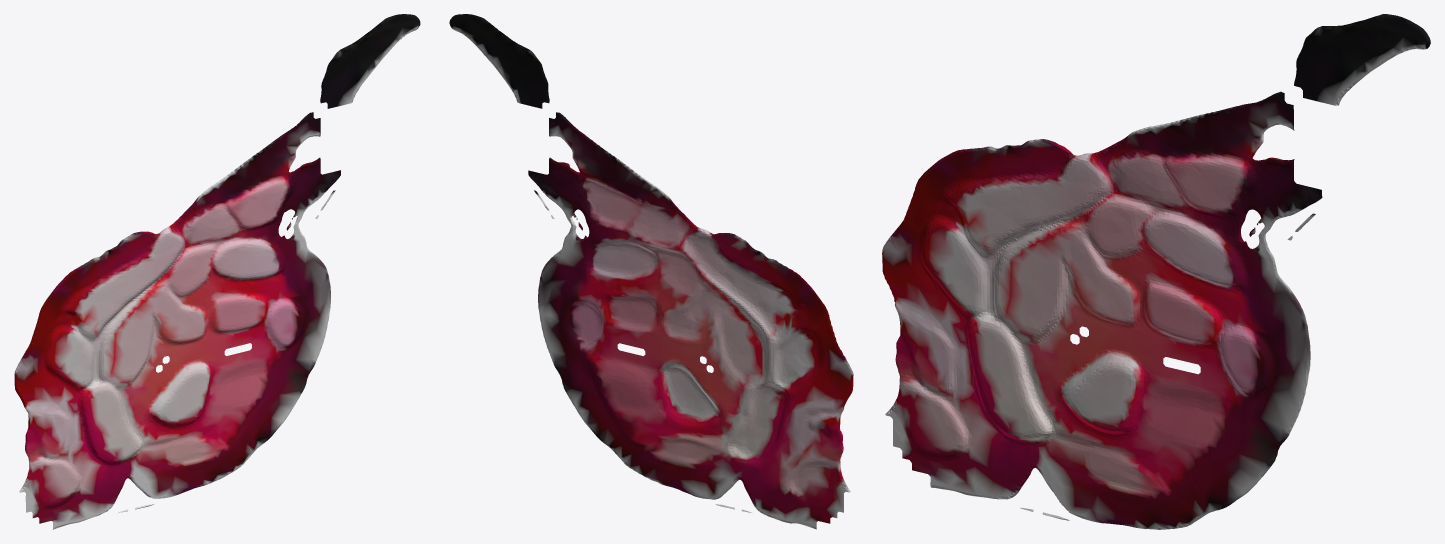
Rendered from onion.glb.
3 views of the same model, side by side, from view 1: azimuth 30°, elevation 25°; view 2: azimuth 150°, elevation 25°; view 3: azimuth 330°, elevation 25° (orthographic). The views are drawn at different scales.
Parts seen in each view (by area): view 1: geometry_0; view 2: geometry_0; view 3: geometry_0.
Boxes of the visible parts, box(x1,y1,x2,y2) form: geometry_0: box(14, 14, 420, 529); geometry_0: box(449, 14, 853, 529); geometry_0: box(882, 14, 1430, 529).
Bounding box in the file's own units: 0.5527 × 0.5625 × 0.0156.
